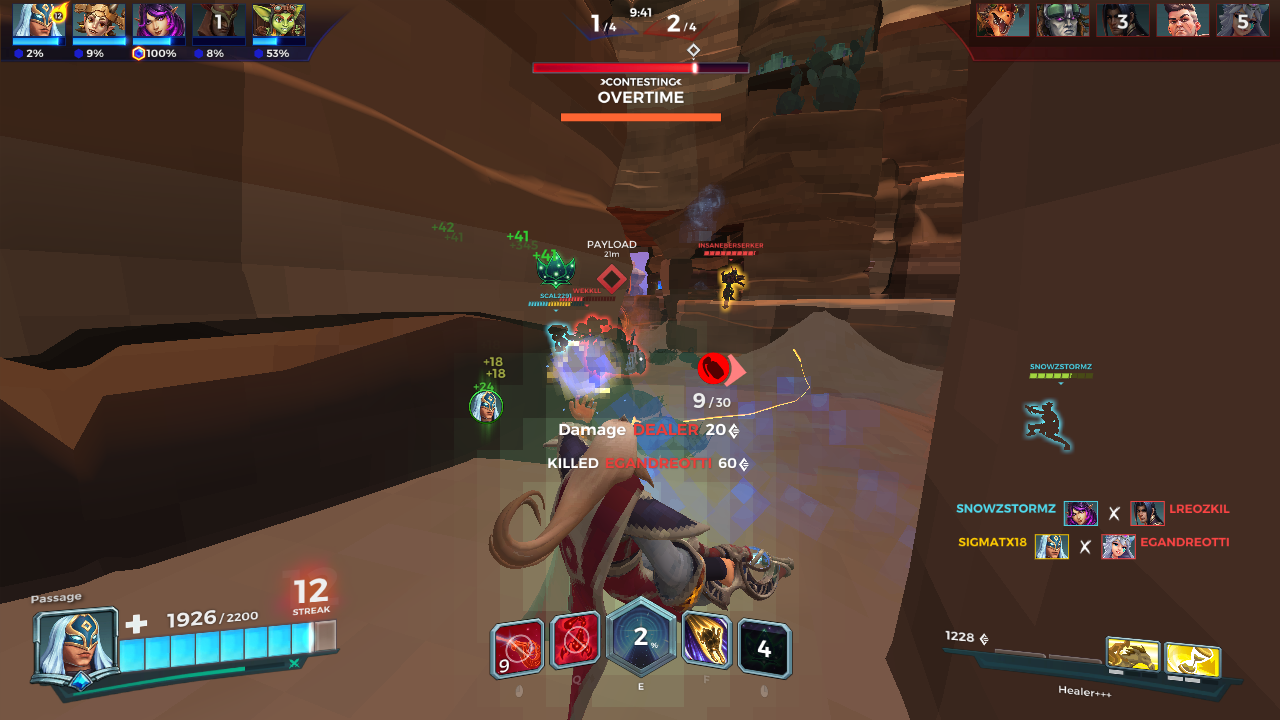model: (569, 315, 632, 358), (716, 262, 750, 312)
